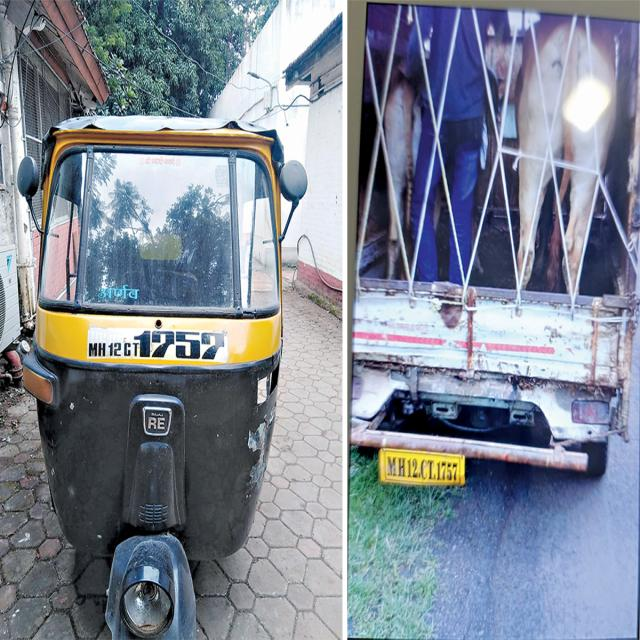autorickshaw: (22, 117, 308, 638)
truck: (349, 2, 640, 481)
